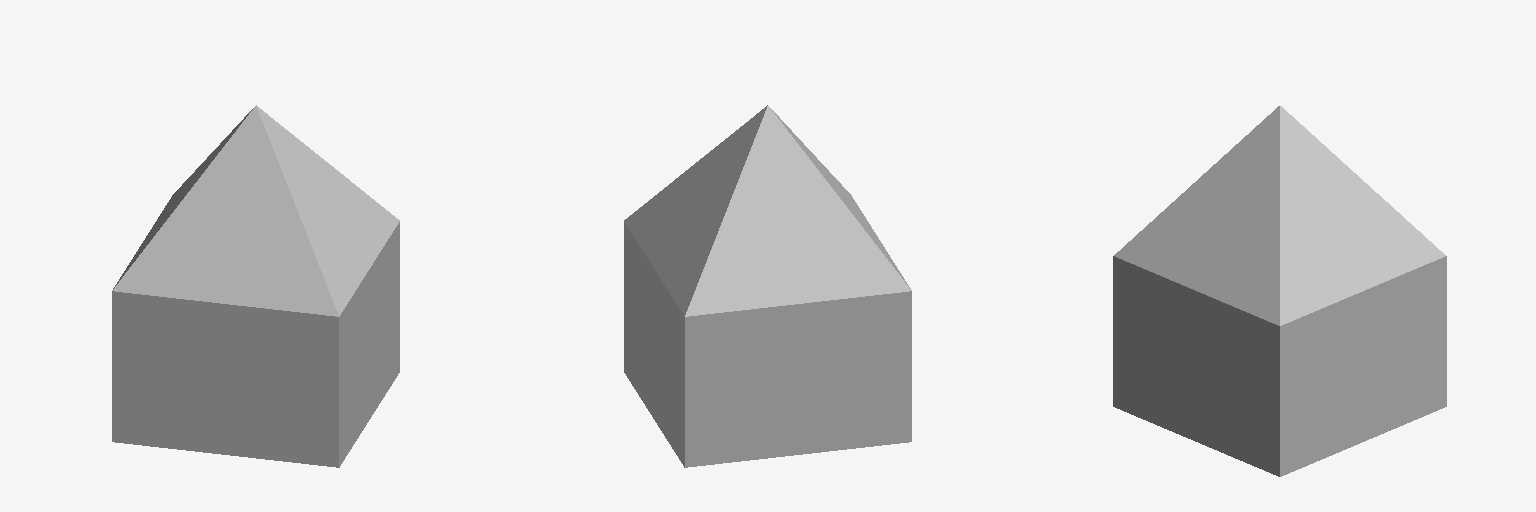
The model's file is TestObjectCubePayramid.obj.
3 views of the same model, side by side, from view 1: azimuth 30°, elevation 25°; view 2: azimuth 150°, elevation 25°; view 3: azimuth 270°, elevation 25° (orthographic).
Parts seen in each view (by area): view 1: default; view 2: default; view 3: default.
Part boxes in pixels (left/top/right/bottom): default: left=112, top=105, right=399, bottom=467; default: left=624, top=105, right=911, bottom=467; default: left=1113, top=106, right=1446, bottom=476.
Bounding box in the file's own units: 20 × 20 × 20.